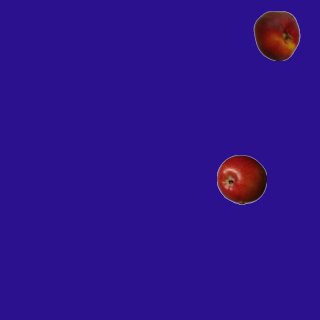Apple Braeburn: (216, 154, 266, 204)
Nectarine Flat: (251, 10, 301, 60)
